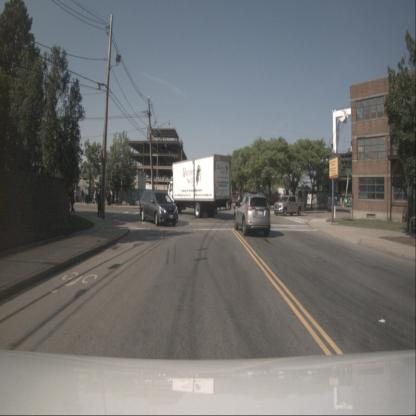human-pedestrian-adult: (69, 188, 75, 214), (97, 190, 102, 218), (86, 186, 90, 206), (80, 187, 84, 204), (93, 189, 97, 204), (106, 189, 109, 205), (112, 188, 115, 204), (108, 191, 111, 206), (237, 195, 240, 207)
vehicle-car: (233, 192, 271, 238), (139, 189, 179, 227), (344, 197, 354, 207)
vehicle-truck: (166, 153, 232, 219), (274, 194, 305, 216)
